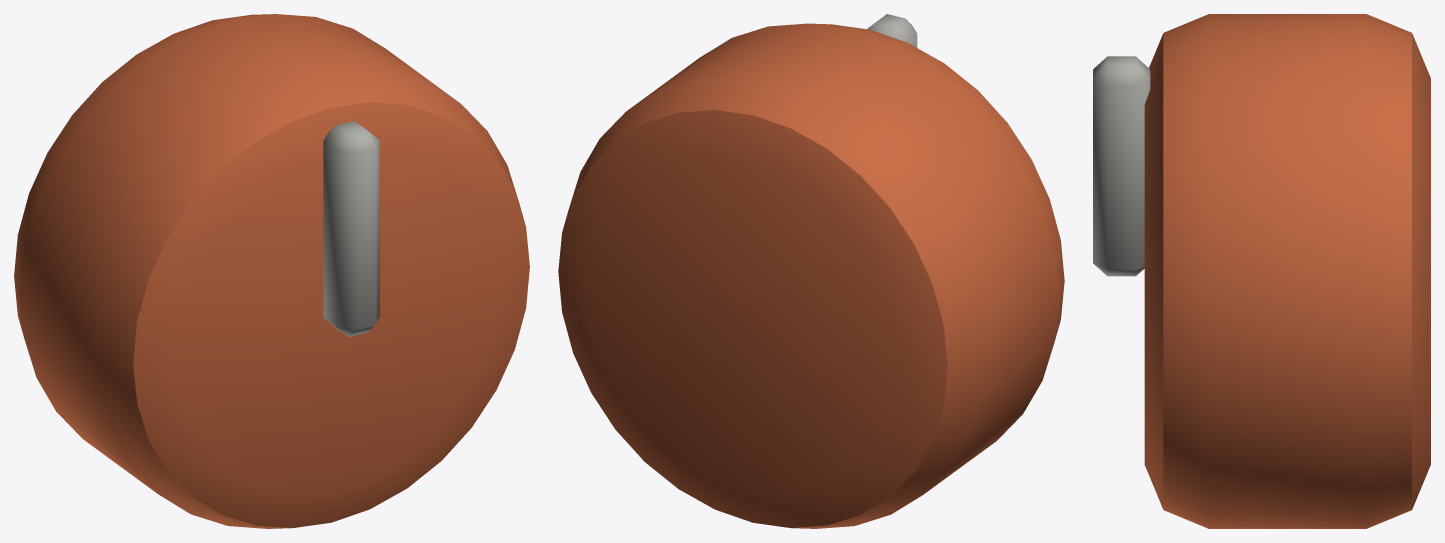
The model's file is oxy_fuel_cutting_torch_oxygen_valve.glb.
3 renders of one model, left to right at view 1: azimuth 30°, elevation 25°; view 2: azimuth 150°, elevation 25°; view 3: azimuth 270°, elevation 25°, orthographic. The views are drawn at different scales.
Visible parts, largest first — view 1: oxy_fuel_cutting_torch_oxygen_valve; view 2: oxy_fuel_cutting_torch_oxygen_valve; view 3: oxy_fuel_cutting_torch_oxygen_valve.
Boxes of the visible parts, x1=… form: oxy_fuel_cutting_torch_oxygen_valve: x1=14, y1=14, x2=529, y2=528; oxy_fuel_cutting_torch_oxygen_valve: x1=558, y1=14, x2=1064, y2=528; oxy_fuel_cutting_torch_oxygen_valve: x1=1093, y1=14, x2=1430, y2=528.
Bounding box in the file's own units: 0.018 × 0.018 × 0.0118.
